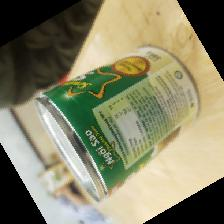NSPN_Lon: (34, 44, 201, 203)
